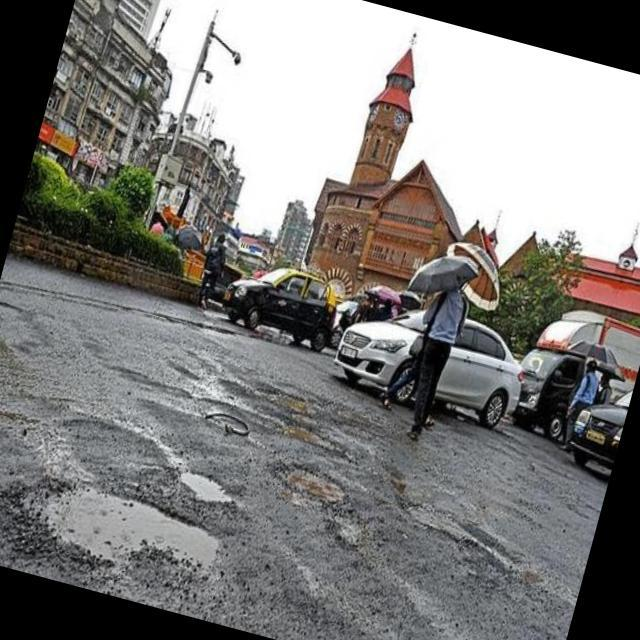Pothole: (0, 461, 234, 611), (390, 492, 520, 580), (272, 455, 360, 507), (272, 410, 348, 461), (166, 458, 239, 510), (322, 506, 371, 555)
